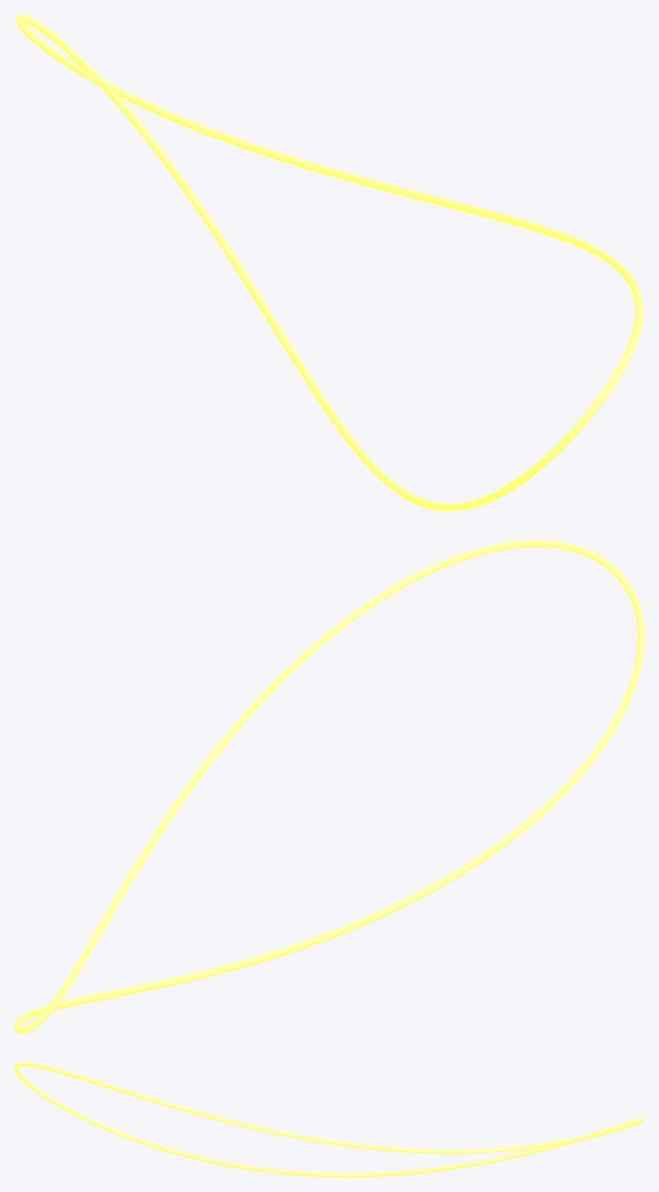
File: orbit_igso.gltf
The picture shows the model from 3 angles, top to bottom: view 1: azimuth 30°, elevation 25°; view 2: azimuth 150°, elevation 25°; view 3: azimuth 270°, elevation 25°; orthographic projection. The views are drawn at different scales.
Parts seen in each view (by area): view 1: OrbitTrajectoryNode; view 2: OrbitTrajectoryNode; view 3: OrbitTrajectoryNode.
Part boxes in pixels (x1,y1,x2,y2): OrbitTrajectoryNode: [15, 14, 643, 511]; OrbitTrajectoryNode: [14, 540, 644, 1033]; OrbitTrajectoryNode: [14, 1062, 644, 1177].
Size of the model in its own units: 8.05 by 7.77 by 35.88.
